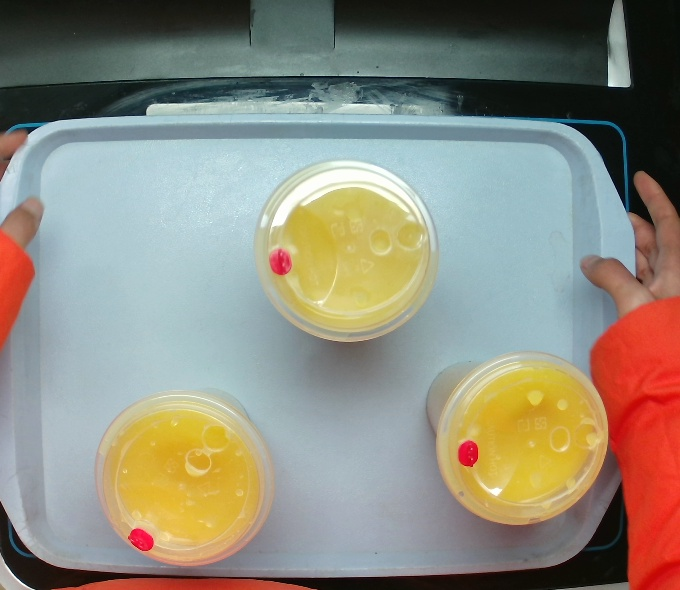wcq-ChengZhi: (251, 155, 441, 344), (91, 384, 276, 568), (422, 349, 611, 528)
